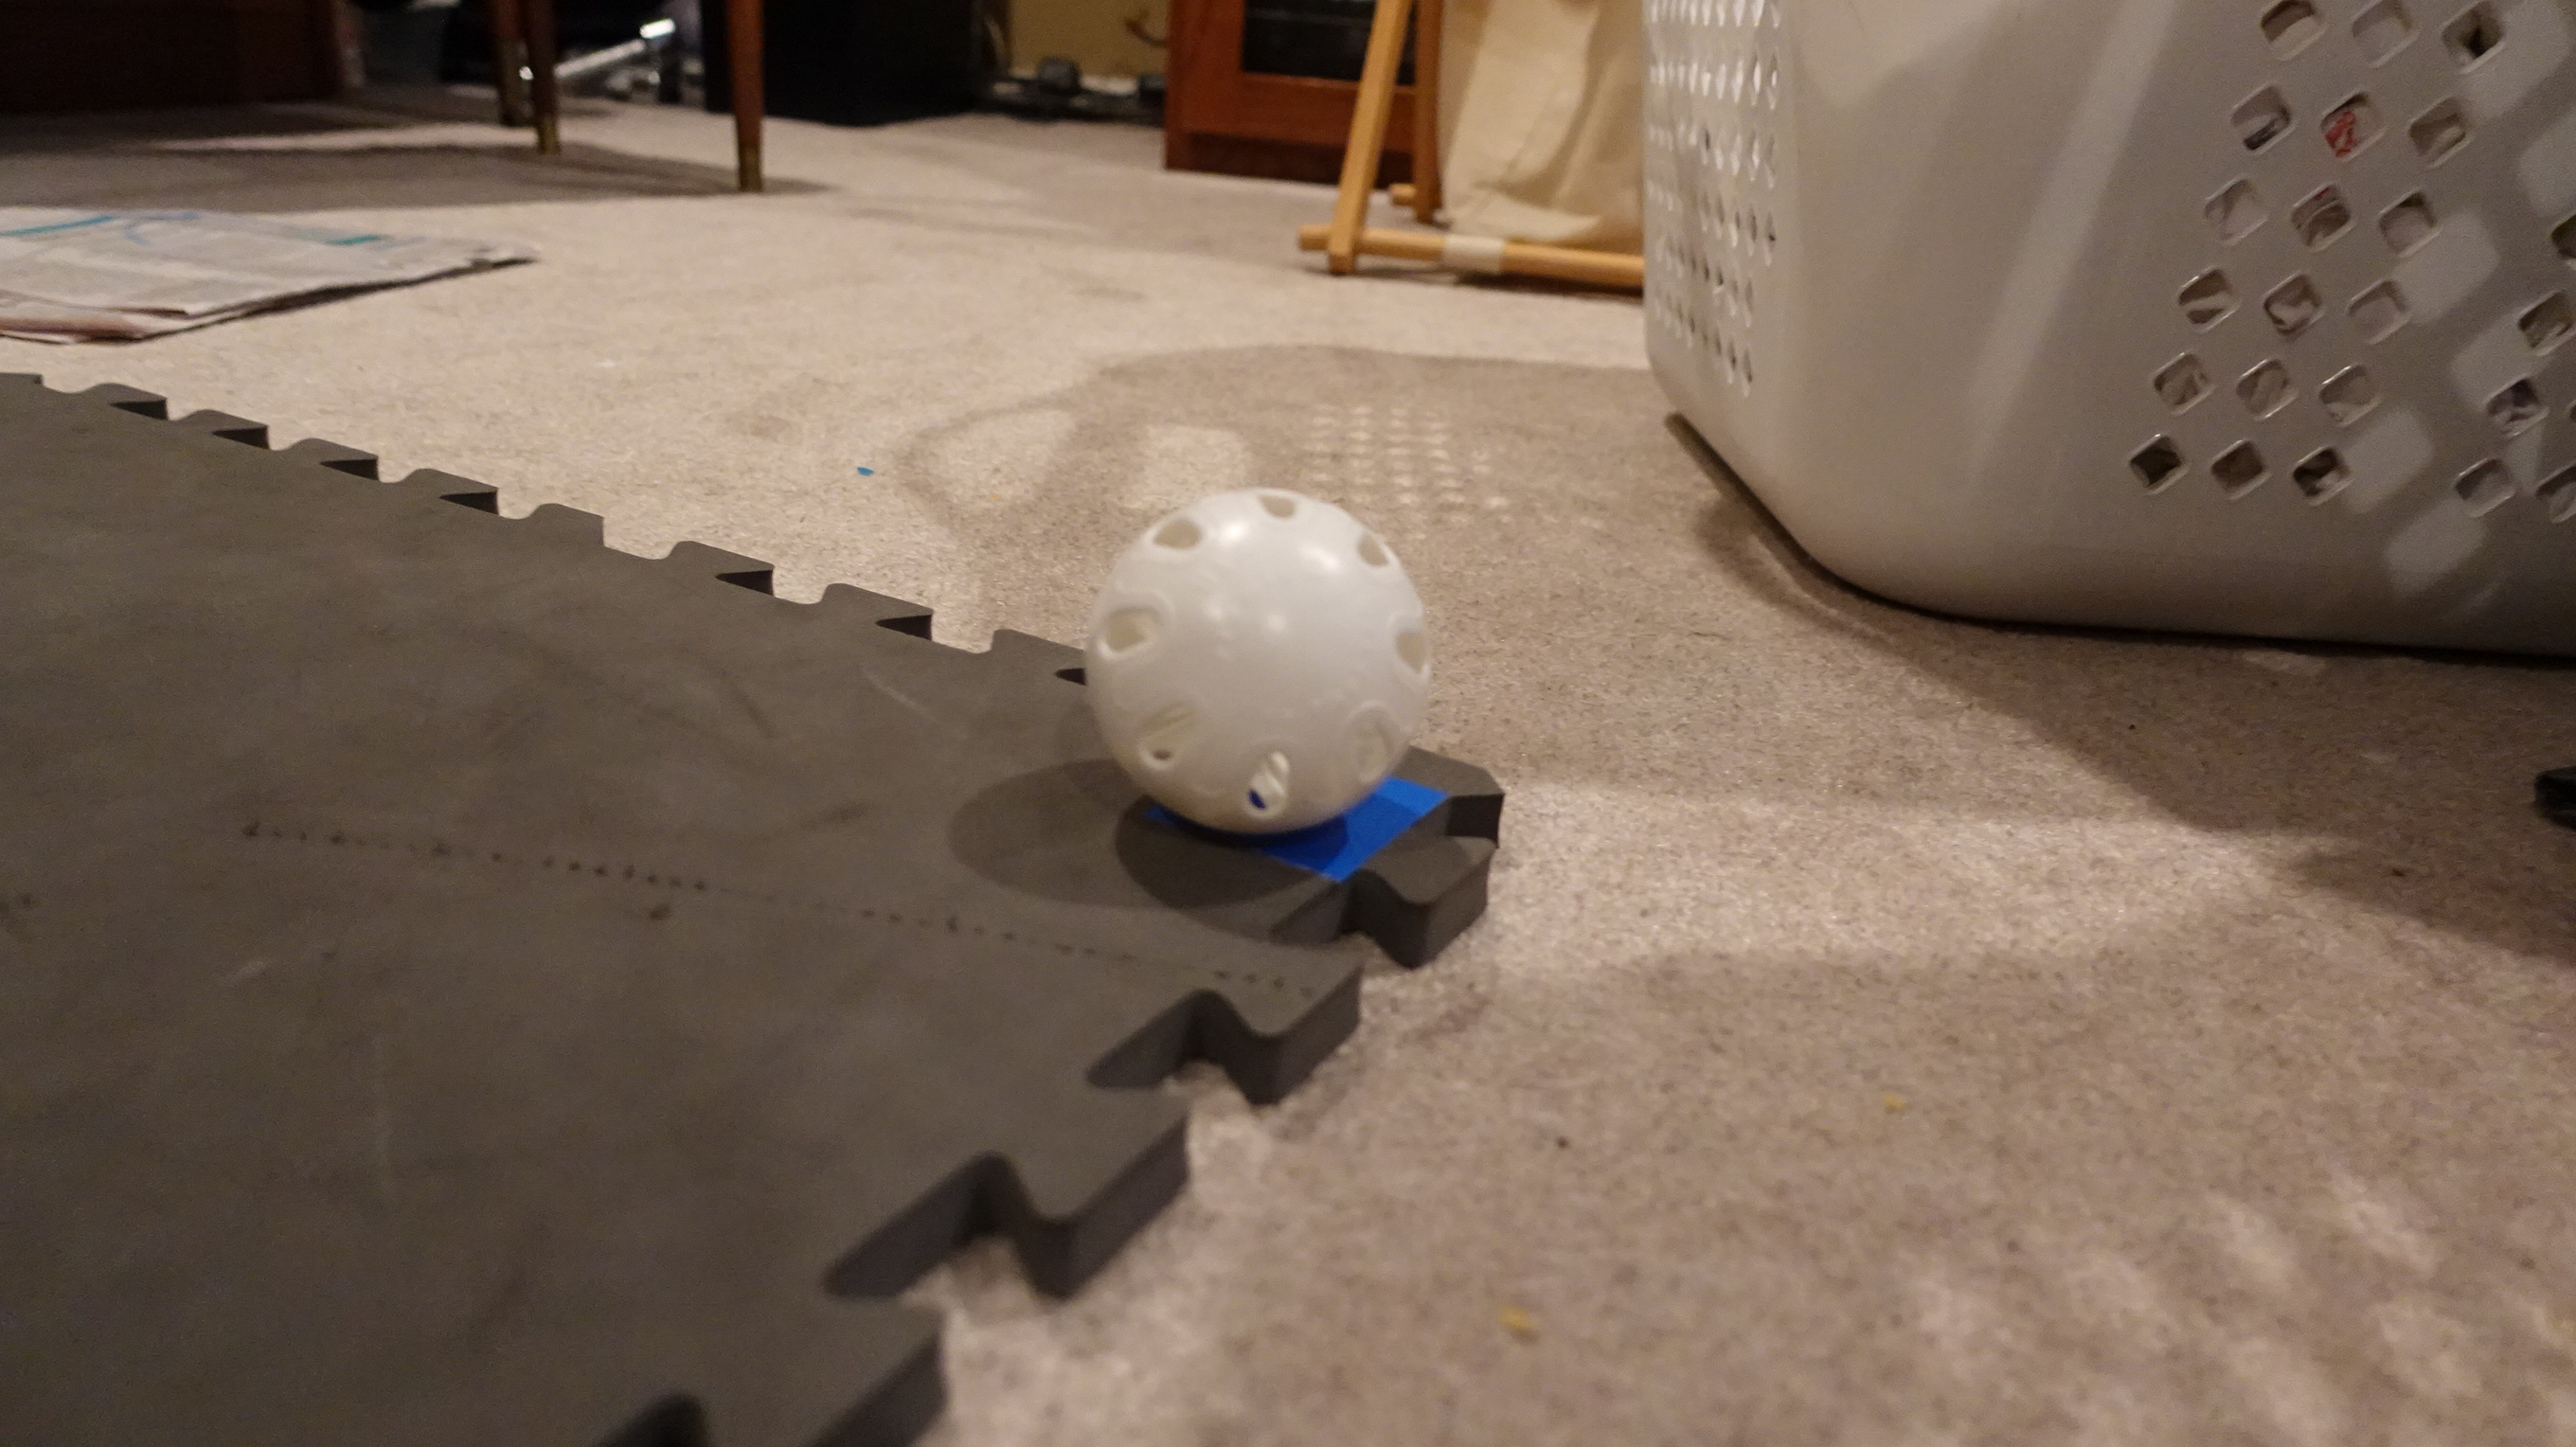silver: (1063, 479, 1438, 849)
